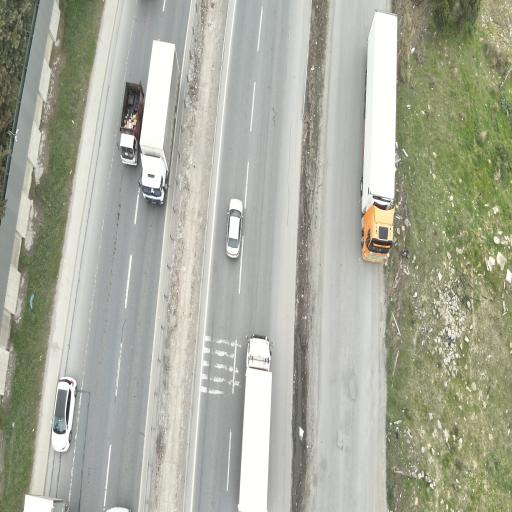car: (51, 377, 77, 452), (227, 199, 242, 257)
truck: (361, 10, 397, 262), (140, 41, 179, 203), (238, 335, 271, 511), (120, 83, 144, 165), (24, 494, 67, 511)
